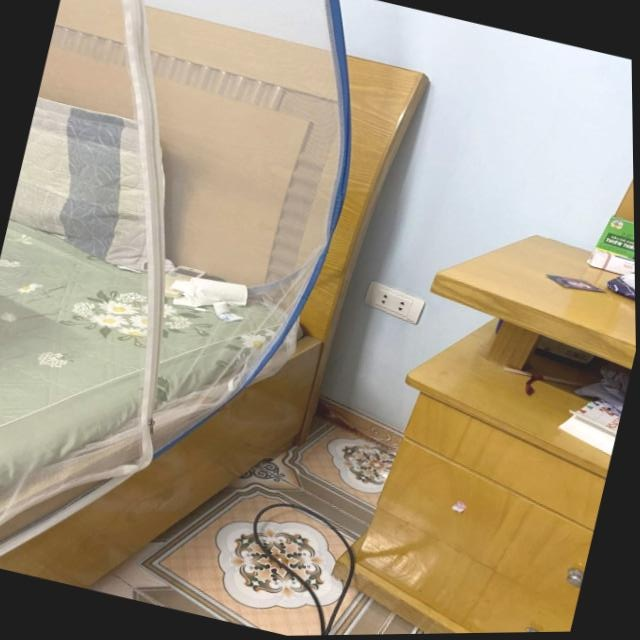outlet: (361, 280, 427, 329)
